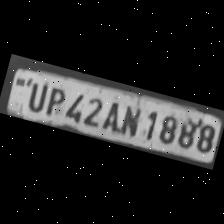1: (136, 106, 162, 142)
2: (79, 92, 106, 130)
4: (60, 87, 89, 123)
8: (154, 110, 182, 146), (191, 120, 218, 156), (173, 115, 199, 151)
A: (98, 96, 125, 134)
N: (117, 100, 144, 138)
P: (40, 82, 68, 119)
U: (22, 78, 50, 114)
